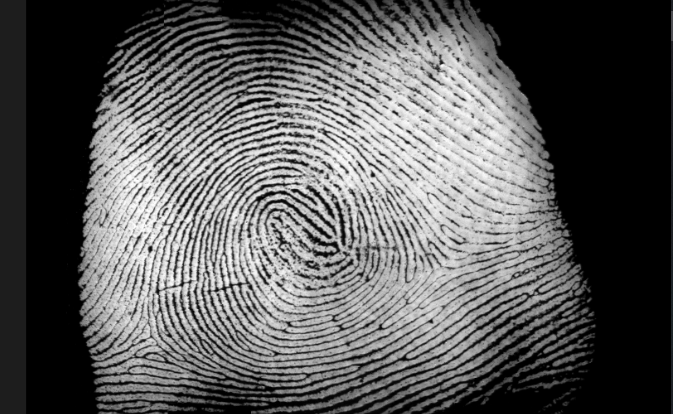deltas: (124, 313, 182, 378), (411, 239, 470, 295)
nucleo: (261, 188, 351, 254)
